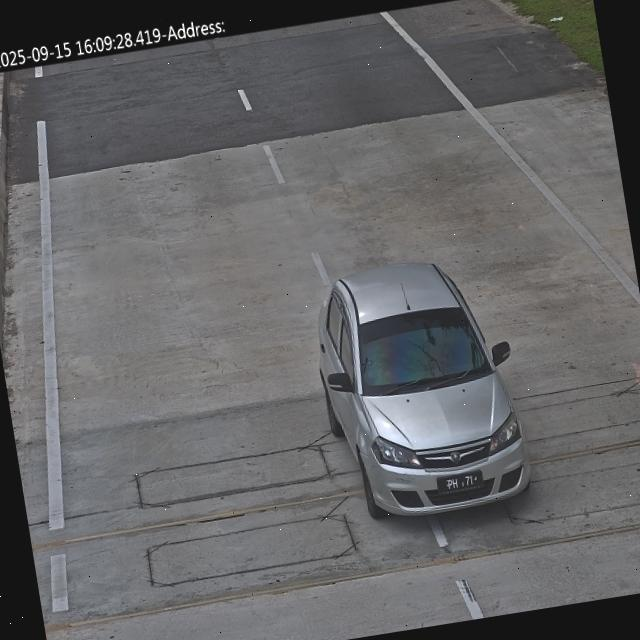front: (442, 468, 482, 496)
